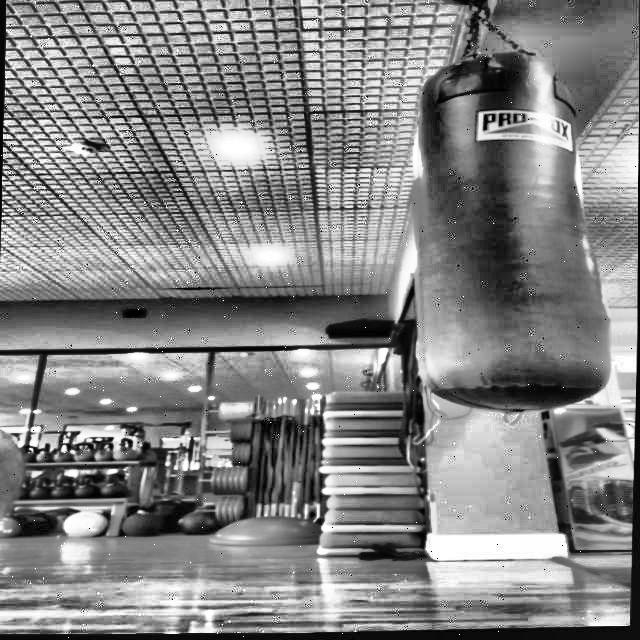boxing-bag: (410, 0, 616, 421)
